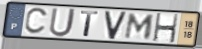C: (23, 7, 50, 36)
H: (152, 12, 180, 44)
M: (123, 12, 157, 40)
T: (80, 10, 100, 38)
U: (47, 7, 78, 39)
V: (104, 10, 129, 41)
